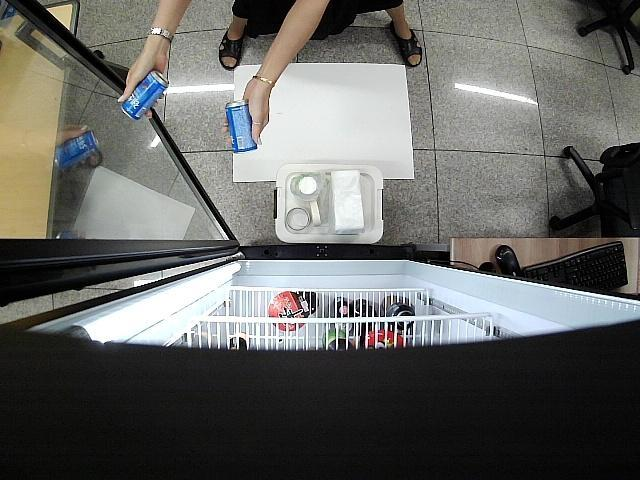15_letsbe: (122, 72, 170, 122), (228, 100, 258, 154)
